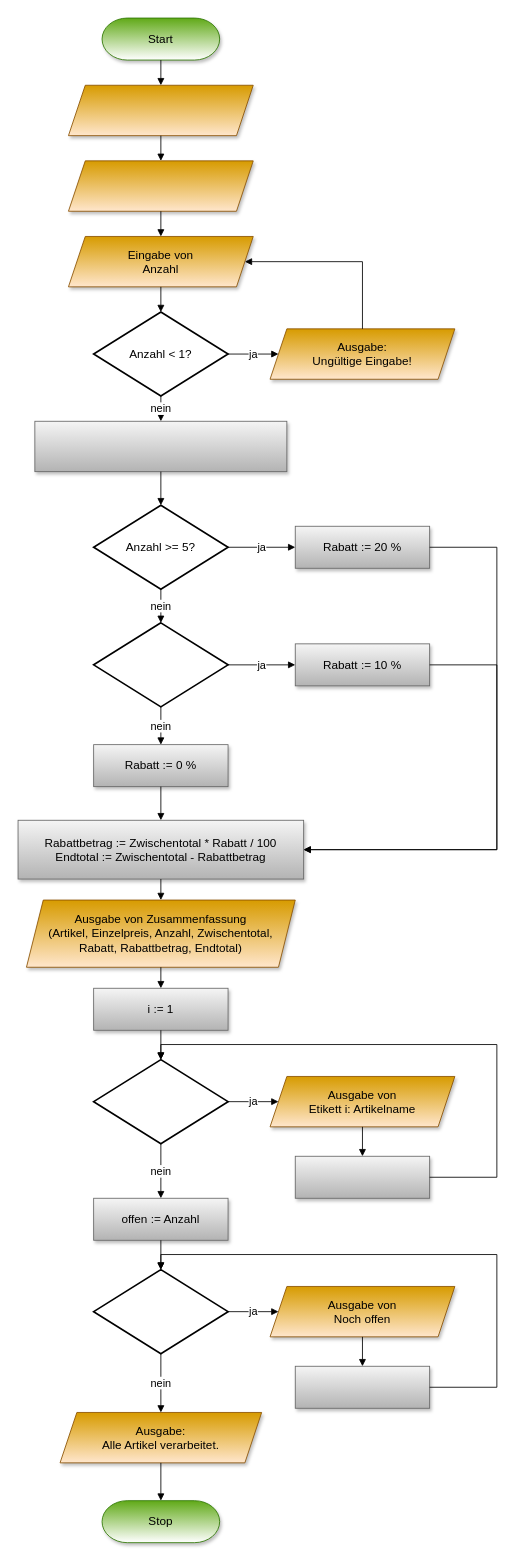
This 518x1563 diagram has some shape labels left out. The shapes that lost their labels are listed below. From the top down, each one's centre as x and y in pixels, then its label:
At pixel 161 111: "Eingabe von Artikelname".
At pixel 161 187: "Eingabe von Einzelpreis".
At pixel 161 447: "Zwischentotal := Einzelpreis * Anzahl".
At pixel 160 664: "Anzahl >= 3?".
At pixel 160 1101: "i <= Anzahl?".
At pixel 363 1178: "i := i + 1".
At pixel 160 1311: "offen > 0?".
At pixel 363 1388: "offen := offen - 1".
